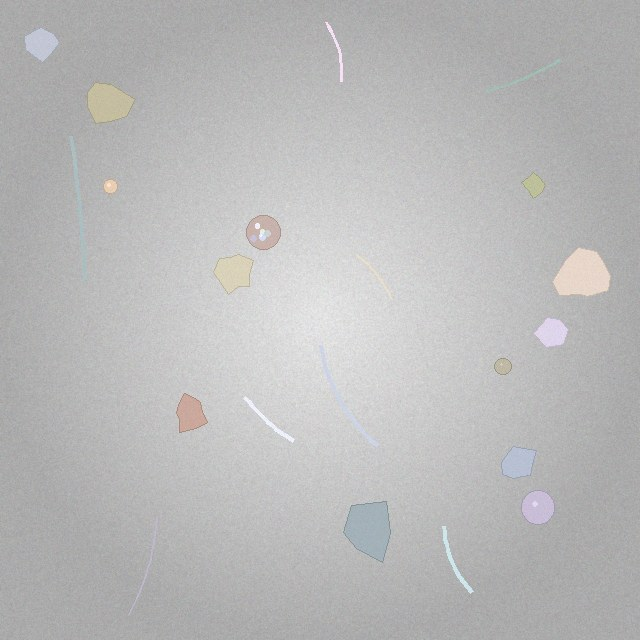fiber: (316, 341, 382, 449), (66, 132, 89, 285), (126, 515, 159, 616), (482, 56, 565, 95), (240, 393, 298, 445), (439, 522, 476, 597), (353, 251, 394, 302), (323, 19, 345, 85)
foam: (247, 216, 280, 249)
fragment: (552, 247, 611, 297), (344, 501, 390, 562), (88, 82, 136, 123), (214, 254, 254, 295), (24, 27, 59, 62), (177, 394, 207, 433), (501, 447, 537, 479), (533, 317, 569, 347), (521, 172, 546, 198)
pellet: (521, 491, 555, 524), (495, 358, 511, 375), (103, 179, 118, 194)
